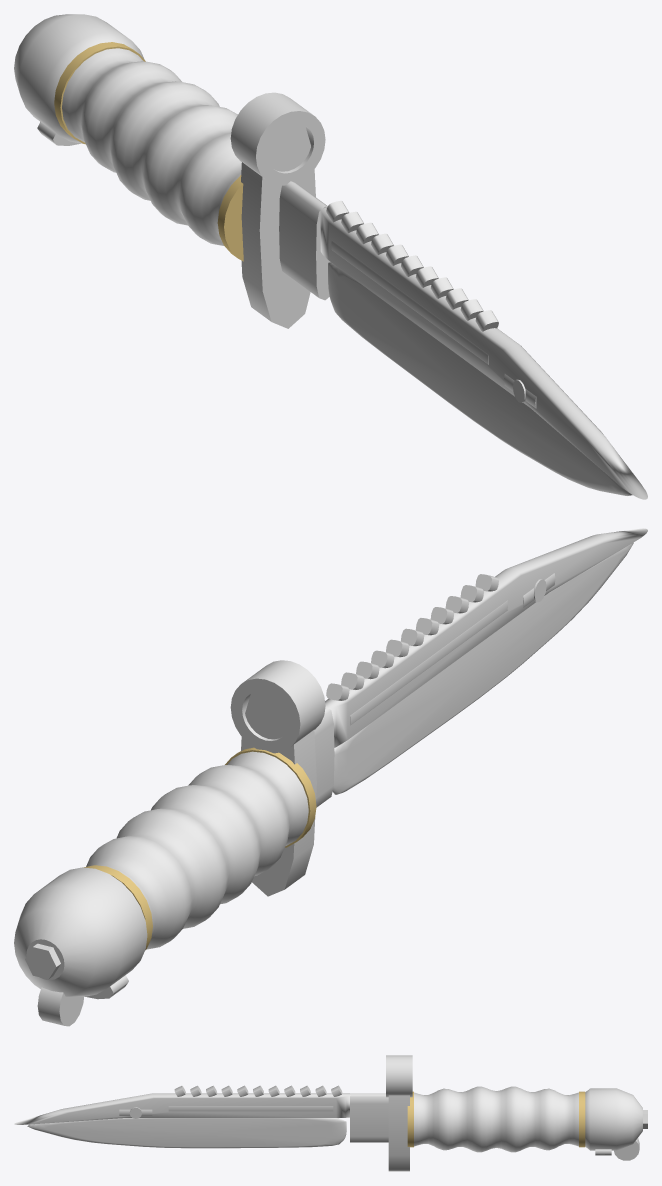
Rendered from Weapon_Knife.fbx.
3 renders of one model, top to bottom at view 1: azimuth 30°, elevation 25°; view 2: azimuth 150°, elevation 25°; view 3: azimuth 270°, elevation 25°, orthographic. The views are drawn at different scales.
Visible parts, largest first — view 1: Weapon_Knife; view 2: Weapon_Knife; view 3: Weapon_Knife.
Part boxes in pixels (x1,y1,x2,y2): Weapon_Knife: (14, 14, 647, 499); Weapon_Knife: (14, 528, 647, 1026); Weapon_Knife: (14, 1055, 647, 1171).
Size of the model in its own units: 0.04 by 0.385 by 0.0768.
